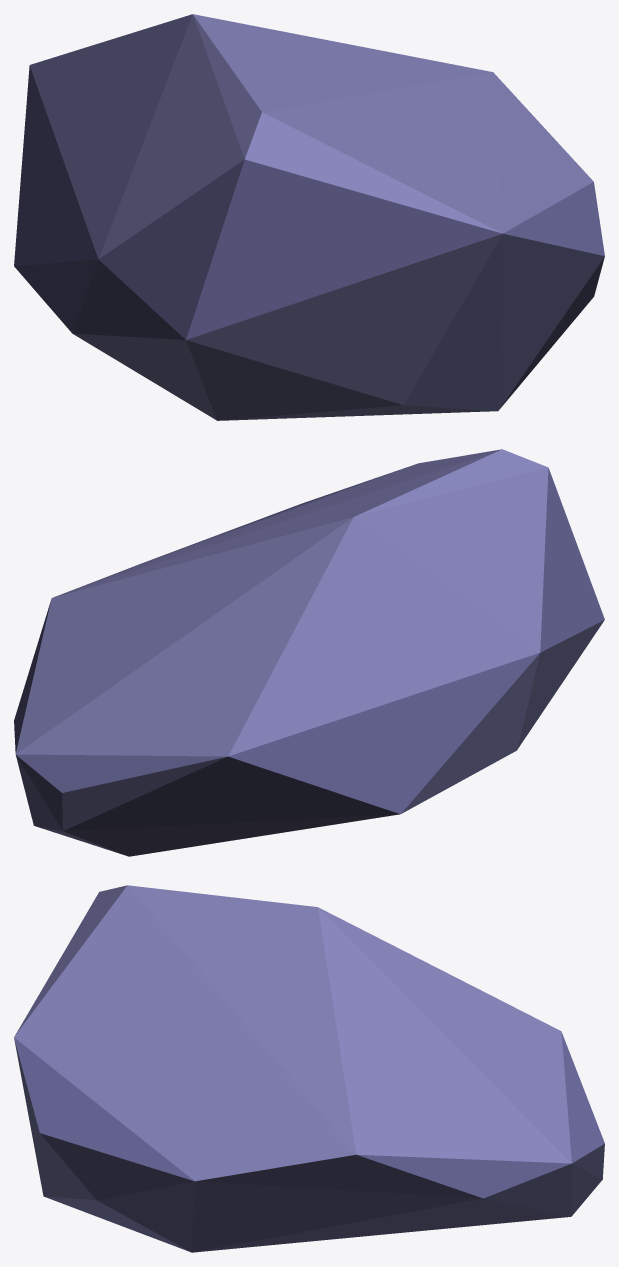
File: rock1.fbx
The picture shows the model from 3 angles, top to bottom: view 1: azimuth 30°, elevation 25°; view 2: azimuth 150°, elevation 25°; view 3: azimuth 270°, elevation 25°; orthographic projection. The views are drawn at different scales.
Parts seen in each view (by area): view 1: rock1; view 2: rock1; view 3: rock1.
Part boxes in pixels (x1,y1,x2,y2): rock1: (14, 14, 604, 420); rock1: (14, 449, 604, 856); rock1: (14, 885, 604, 1252).
Bounding box in the file's own units: 440 × 301 × 595.
1 material, 1 textured.
